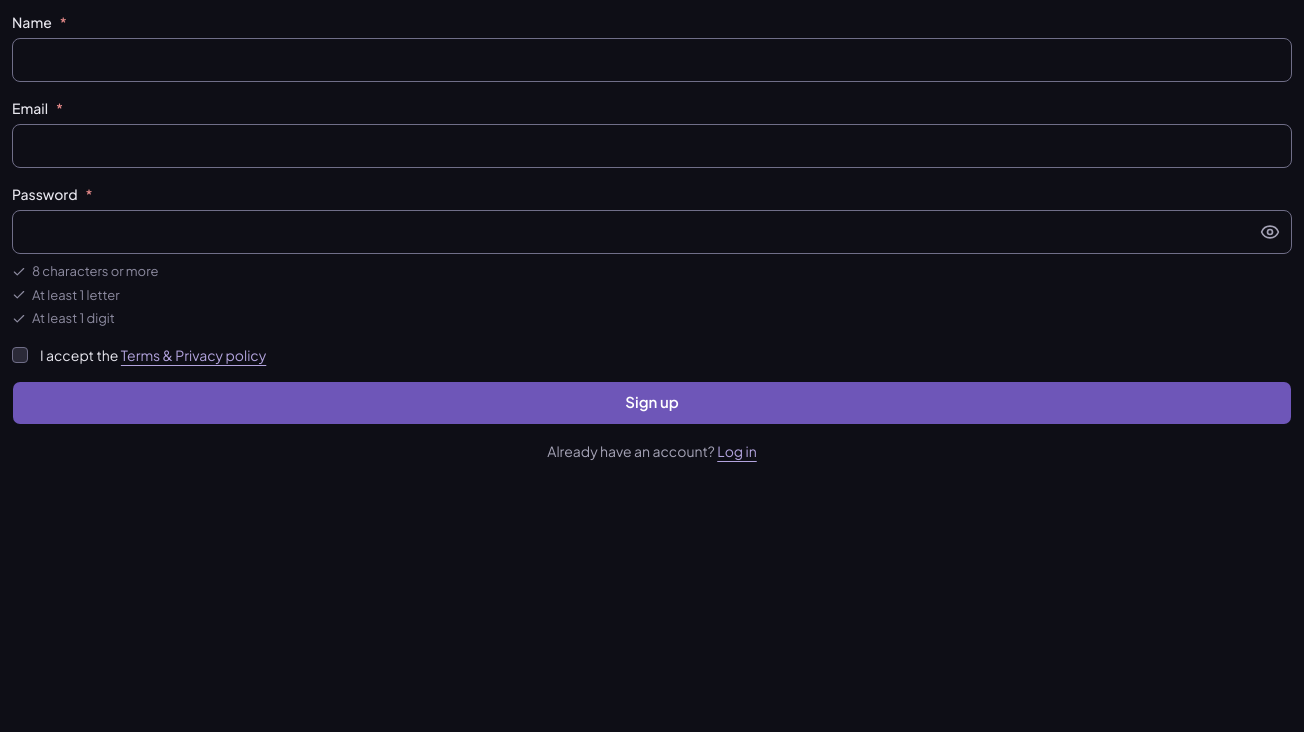
Test: a backend error on password is shown under that field and nobody is logged in
The image size is (1304, 732).
Type "Mona Ali" into the field labelled "Name *" at (652, 60), box [12, 38, 1292, 82]
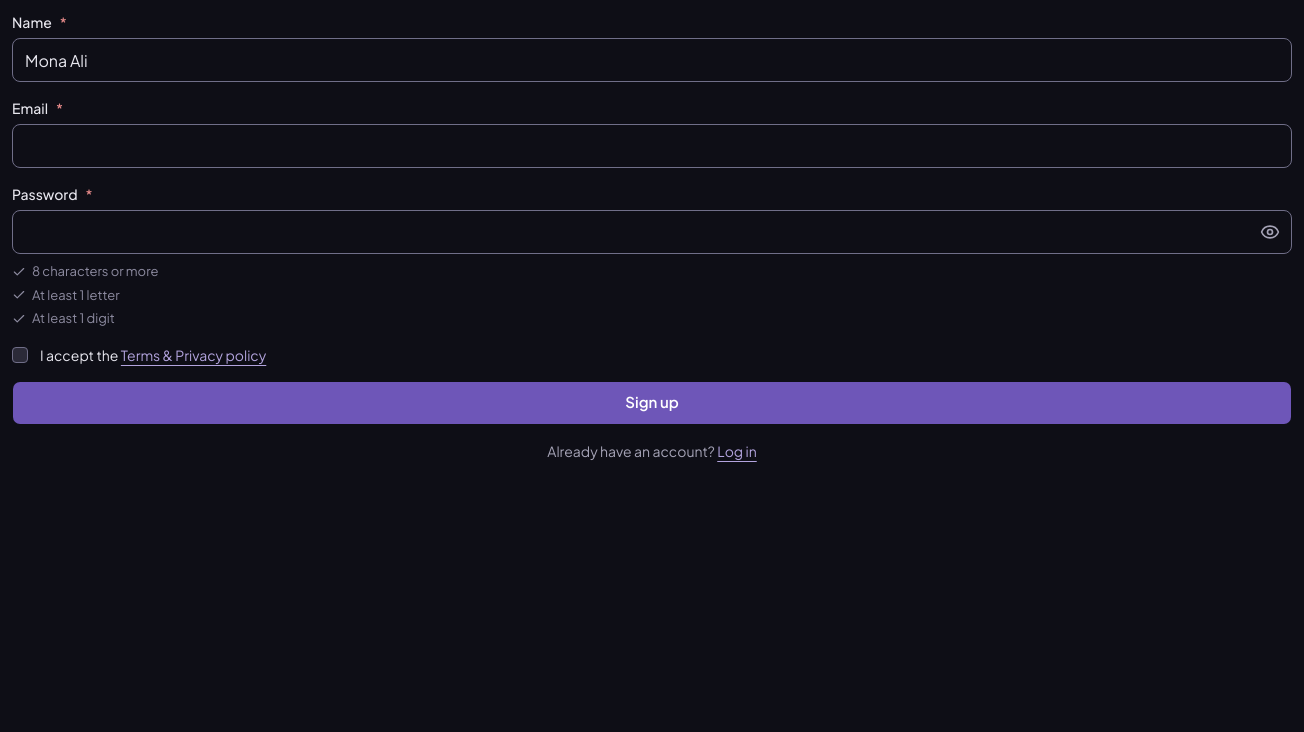
Type "mona@example.com" into the field labelled "Email *" at (652, 146), box [12, 124, 1292, 168]
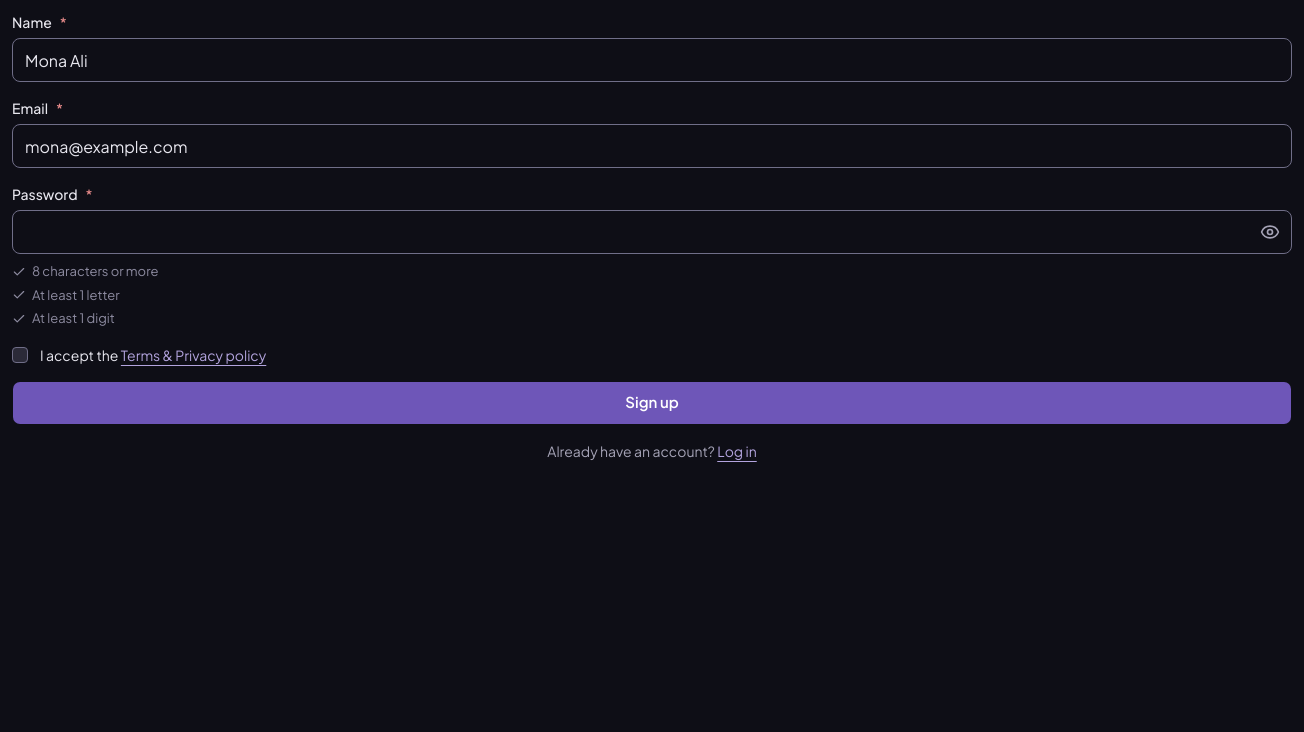
Type "Secret123" into the password field labelled "Password *" at (652, 232), box [12, 210, 1292, 254]
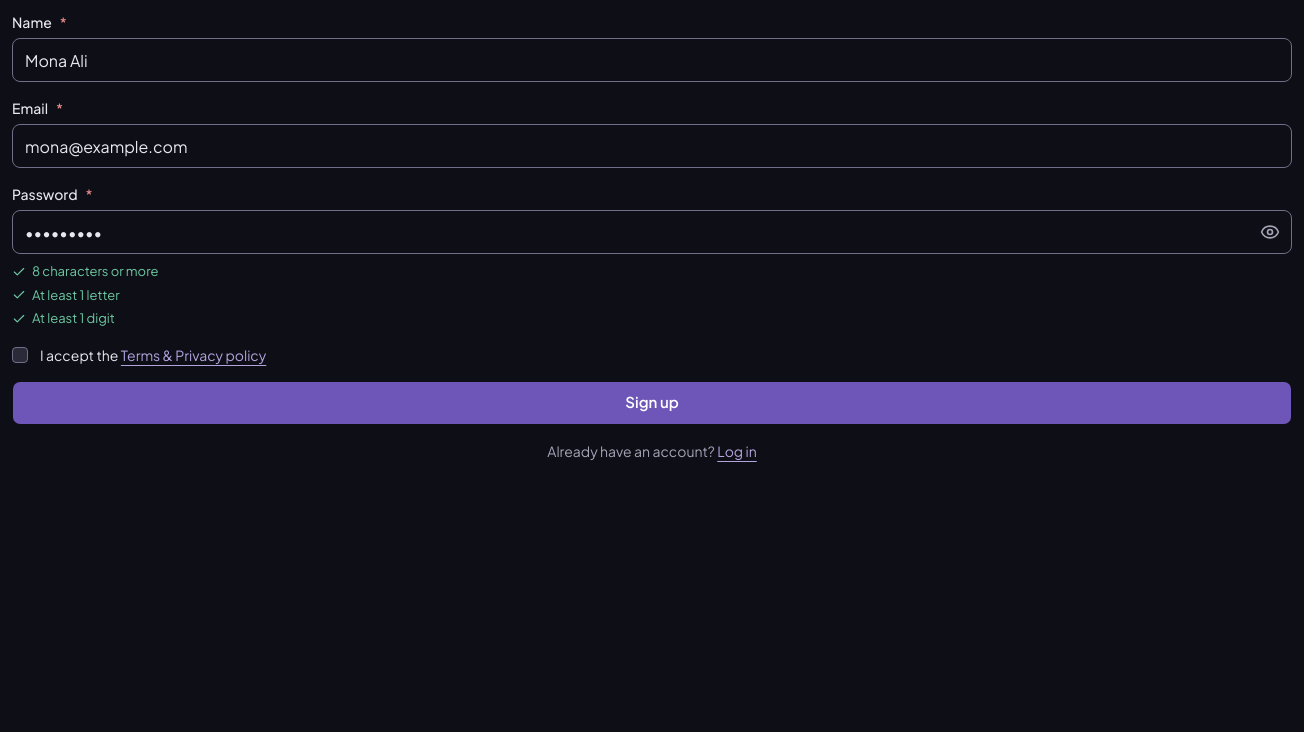
Click the checkbox at (20, 354), box [12, 346, 28, 362]
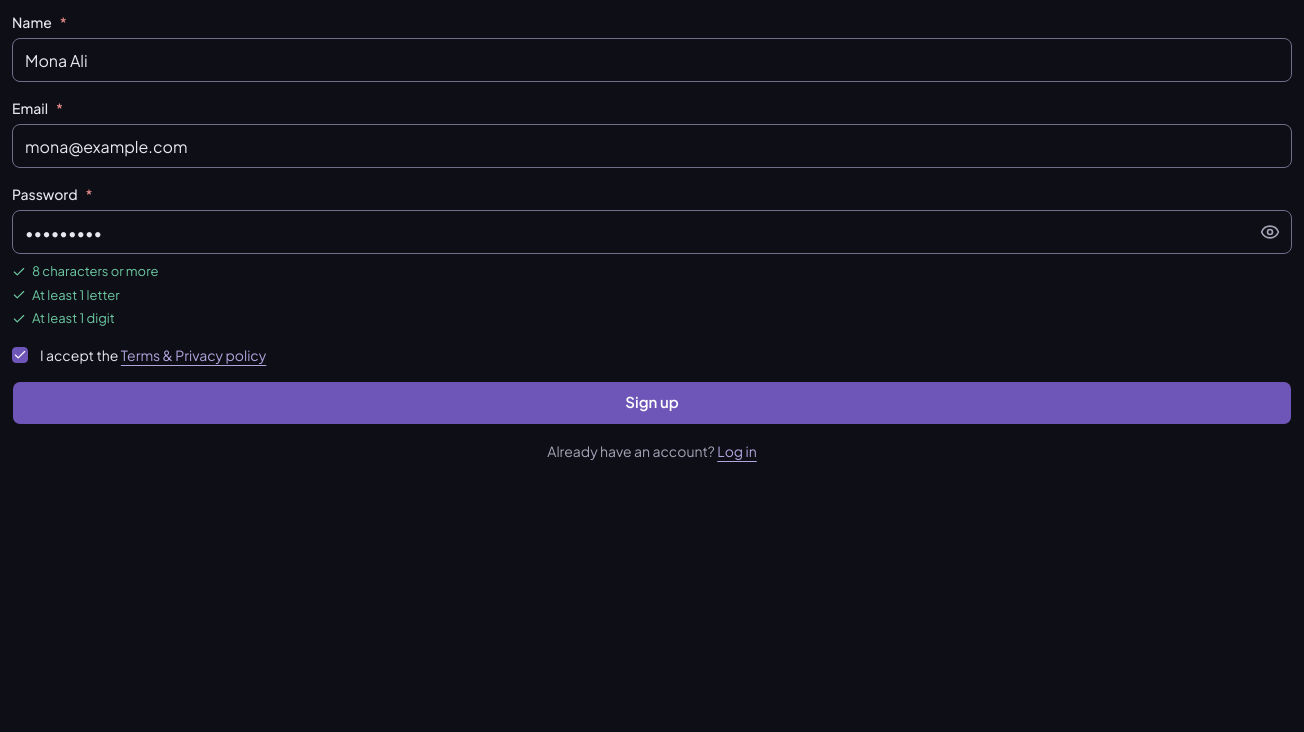
Click the button "Sign up" at (652, 402), box [12, 380, 1292, 424]
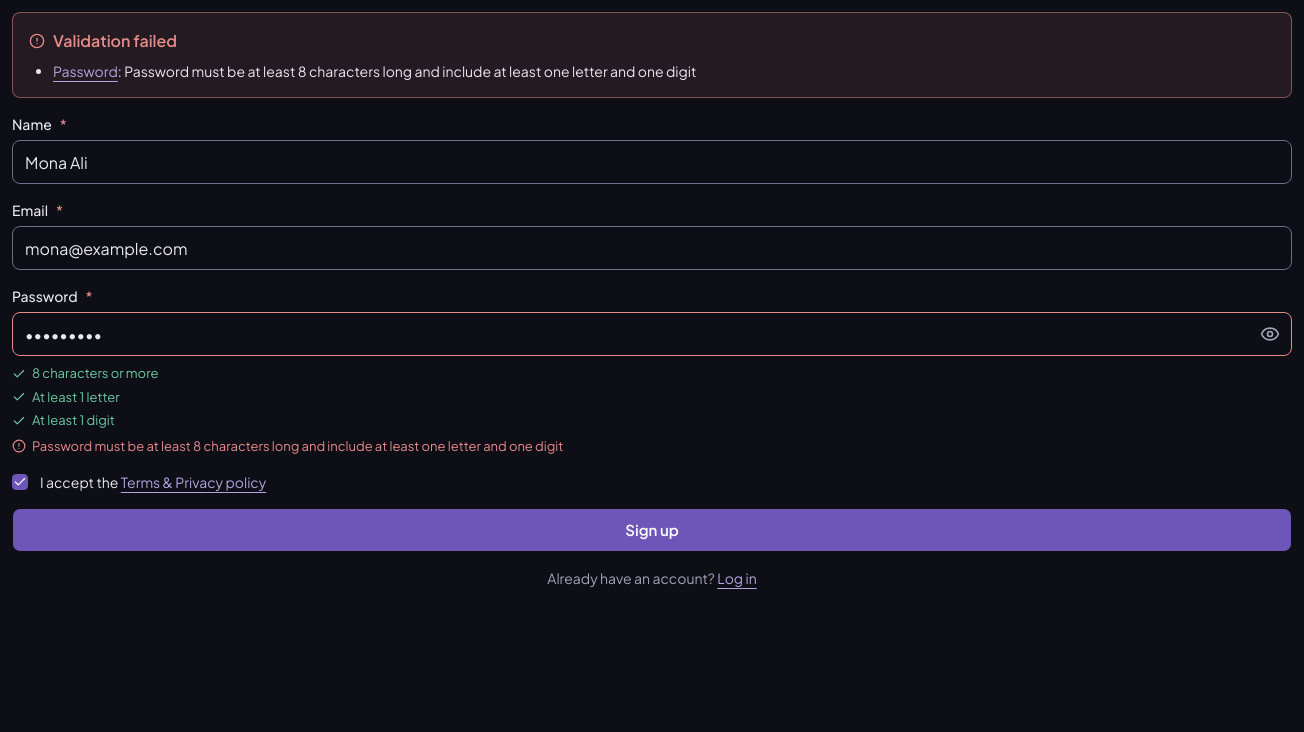
Check: the message is shown, box [12, 12, 1292, 98]
